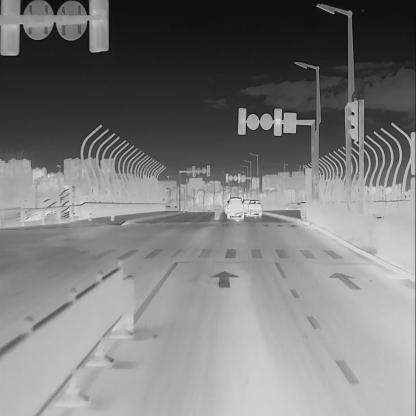car: (226, 195, 244, 219), (247, 198, 262, 218), (240, 198, 251, 215), (223, 199, 230, 215)
